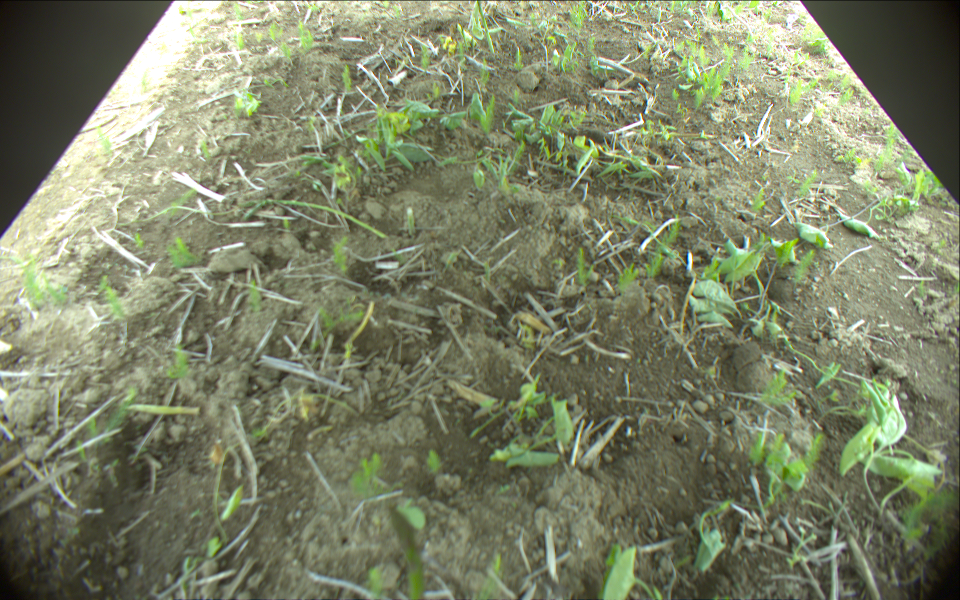aspa: (240, 198, 383, 237), (387, 504, 425, 600), (478, 1, 496, 54)
